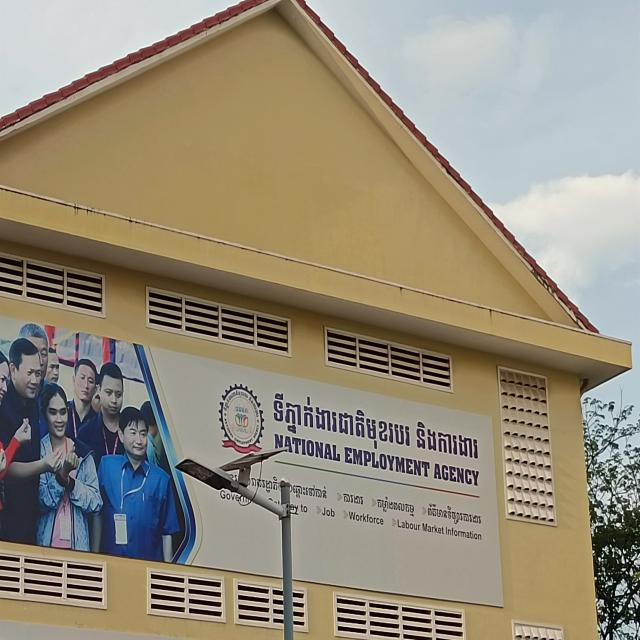1: (271, 387, 482, 469)
Yolov11_80vkh: (425, 500, 483, 529), (376, 494, 416, 519), (341, 491, 365, 508)
